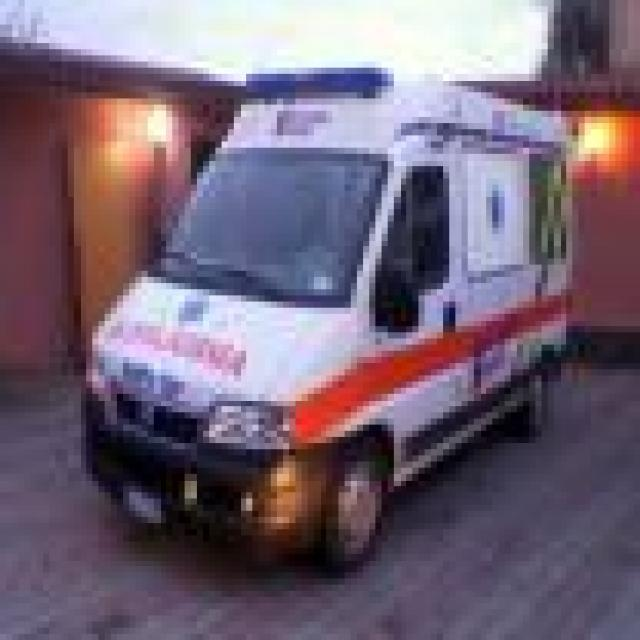emergency-vehicle: (77, 28, 612, 588)
